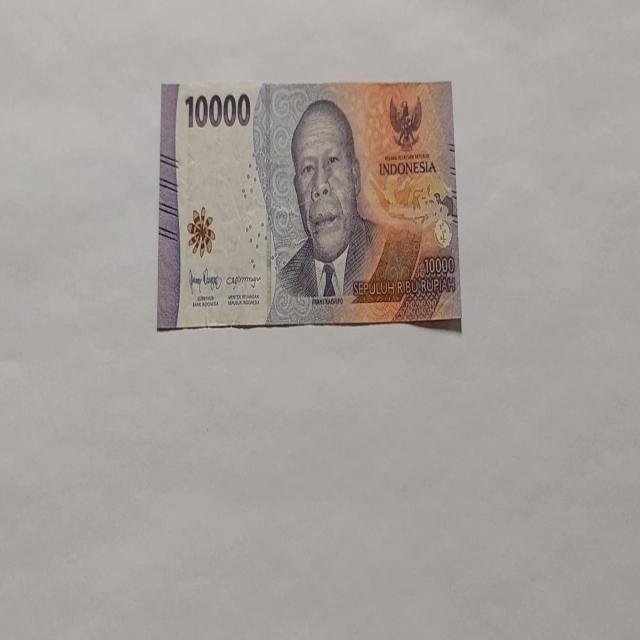sepuluh ribu rupiah: (156, 78, 462, 331), (266, 97, 388, 322)
